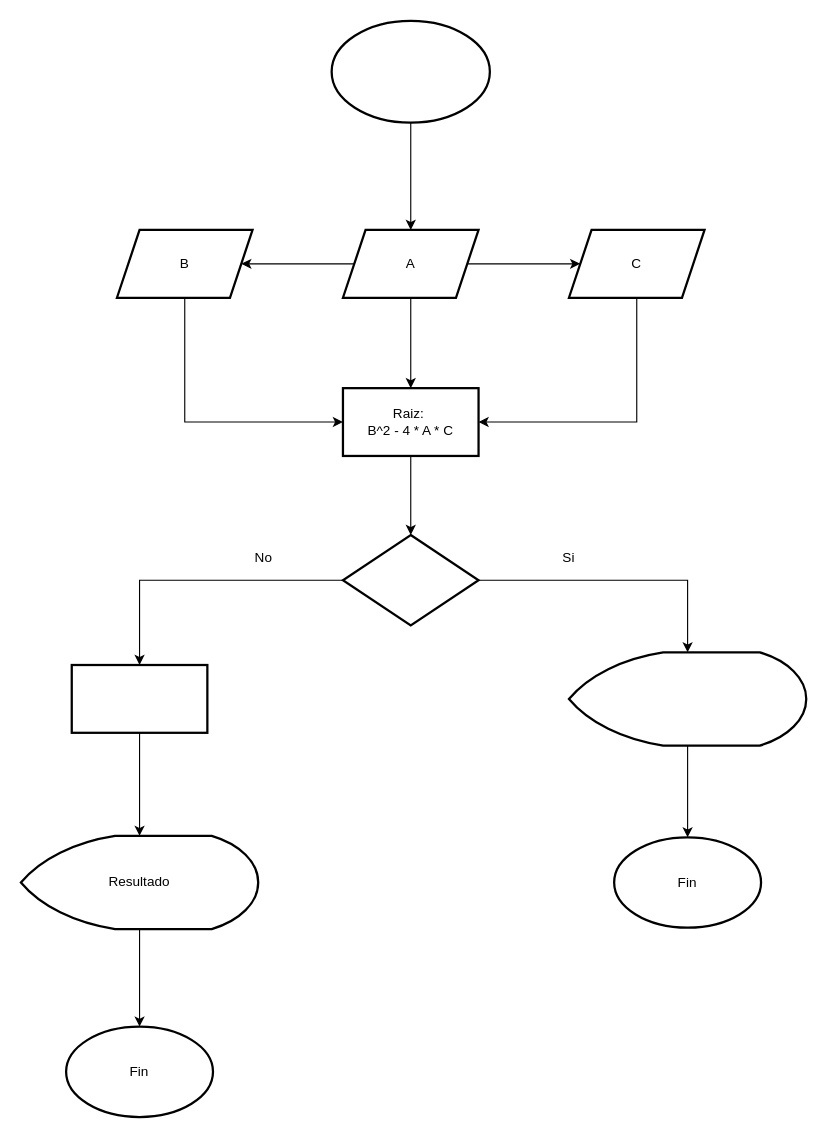
Some shapes in this 826 by 1137 pixel diagram are drawn without their labels. Here are the shapes that lost their labels. From the top down, the centre of each, then its label:
pixel 410 71: Inicio
pixel 410 579: Raiz < 0
pixel 139 698: Resultado: (-B ± √Raiz) / (2*A)
pixel 687 698: "No es posible sacar raíz de un numero negativo"
